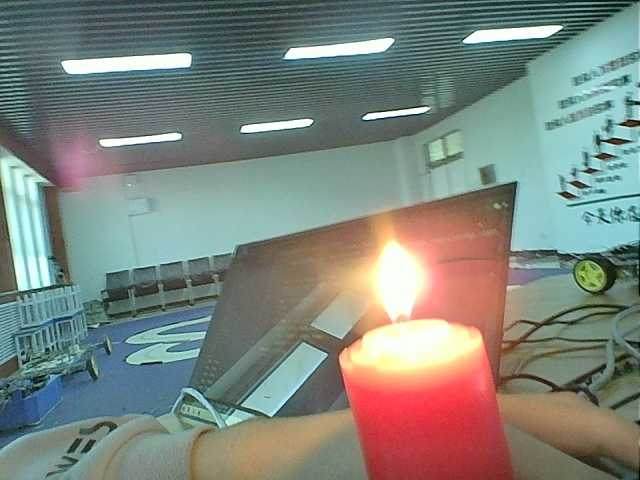candle: (335, 327, 522, 480)
fire: (363, 234, 437, 332)
